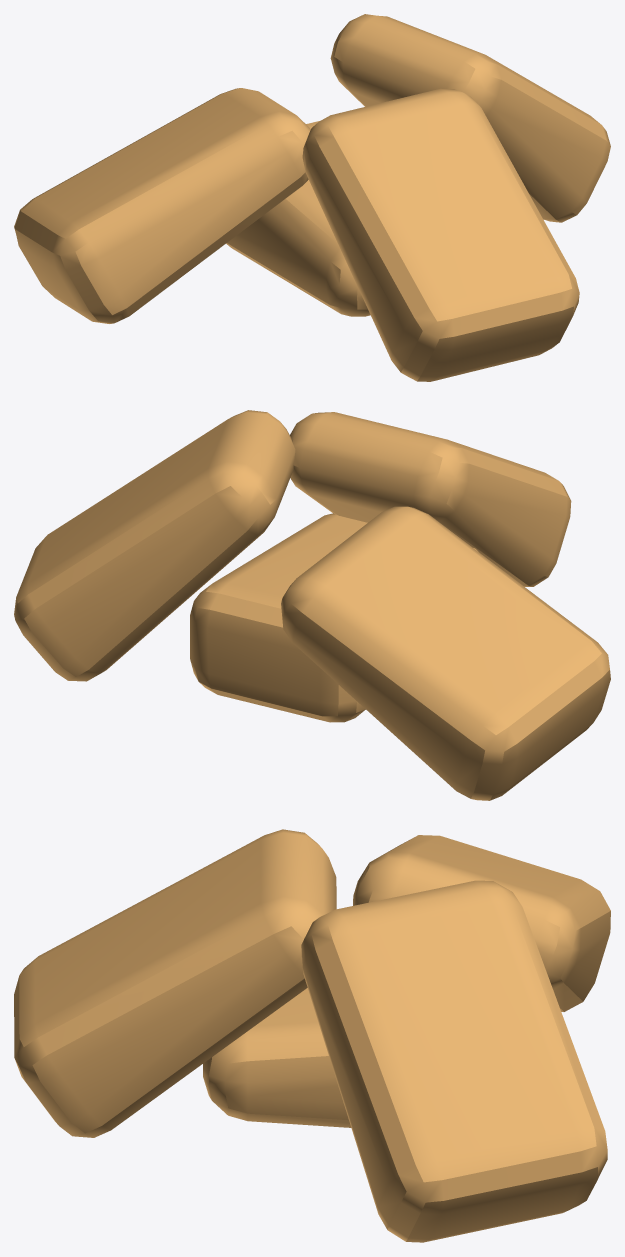
File: Cement.fbx
3 views of the same model, one above another, from view 1: azimuth 30°, elevation 25°; view 2: azimuth 150°, elevation 25°; view 3: azimuth 270°, elevation 25° (orthographic). The views are drawn at different scales.
Parts seen in each view (by area): view 1: pCube62, pCube64, pCube63, pCube61; view 2: pCube64, pCube63, pCube62, pCube61; view 3: pCube63, pCube62, pCube64, pCube61.
Part boxes in pixels (x1,y1,x2,y2): pCube62: [302, 88, 579, 381]; pCube64: [14, 88, 310, 323]; pCube63: [330, 14, 610, 222]; pCube61: [226, 120, 370, 316]; pCube64: [281, 506, 610, 800]; pCube63: [14, 410, 295, 681]; pCube62: [290, 412, 571, 586]; pCube61: [190, 513, 478, 722]; pCube63: [301, 880, 607, 1242]; pCube62: [14, 829, 336, 1137]; pCube64: [353, 835, 610, 1011]; pCube61: [203, 988, 553, 1127].
Bounding box in the file's own units: 0.9592 × 0.3931 × 0.7562.
